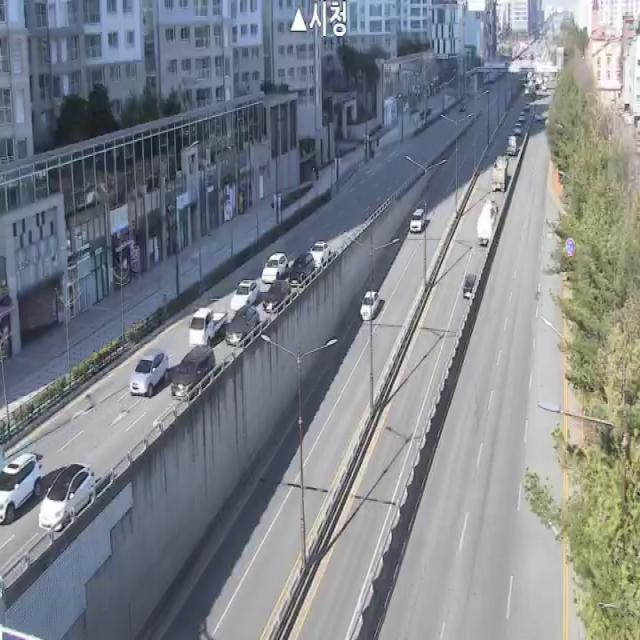Car: (39, 463, 94, 532), (0, 453, 41, 524), (171, 345, 216, 402), (130, 350, 168, 400), (189, 308, 228, 347), (226, 304, 260, 346), (262, 280, 292, 314), (230, 279, 260, 311), (289, 252, 315, 288), (261, 253, 289, 284), (360, 290, 379, 321), (310, 240, 331, 267), (410, 208, 424, 232), (463, 274, 477, 298), (514, 123, 522, 135)
Truck: (476, 201, 498, 246), (492, 155, 509, 193), (504, 135, 518, 157)
